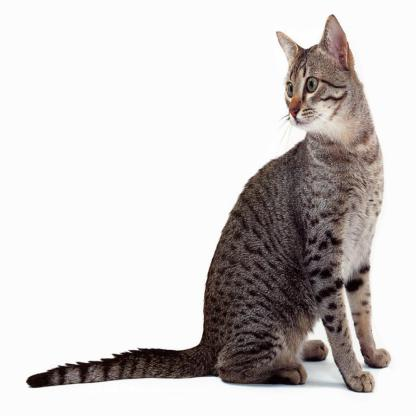cat: (27, 22, 392, 395)
